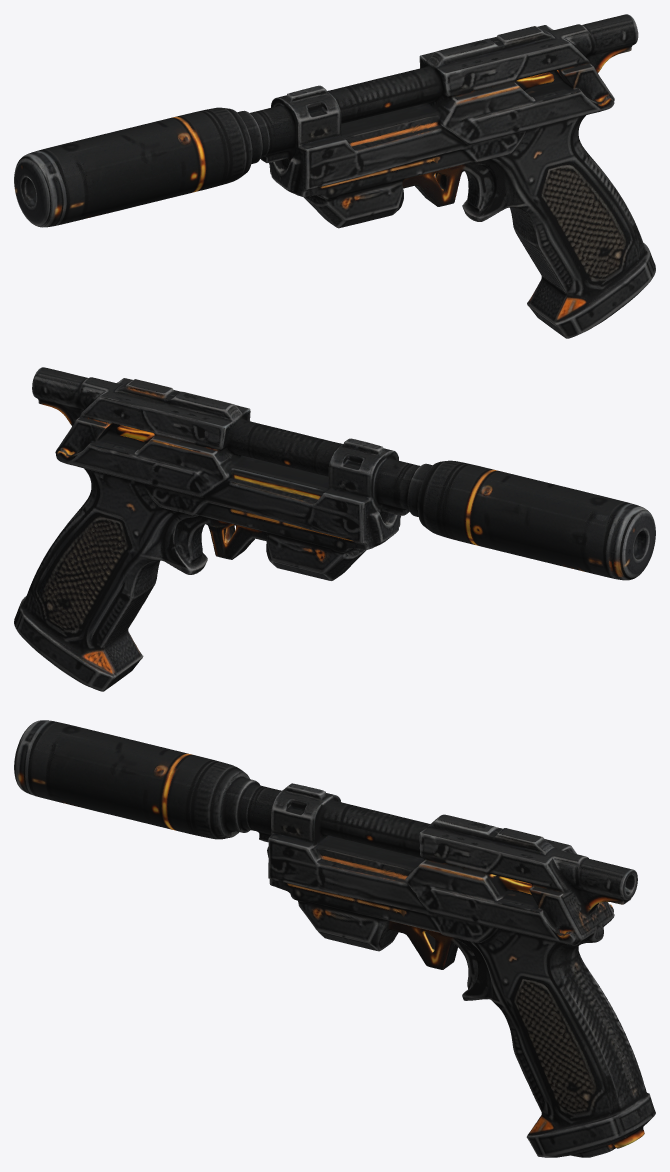
File: orion_secundaria.glb
3 renders of one model, top to bottom at view 1: azimuth 30°, elevation 25°; view 2: azimuth 150°, elevation 25°; view 3: azimuth 330°, elevation 25°, orthographic.
Bounding box in the file's own units: 1.9 × 0.888 × 0.2193.
1 material, 1 textured.
